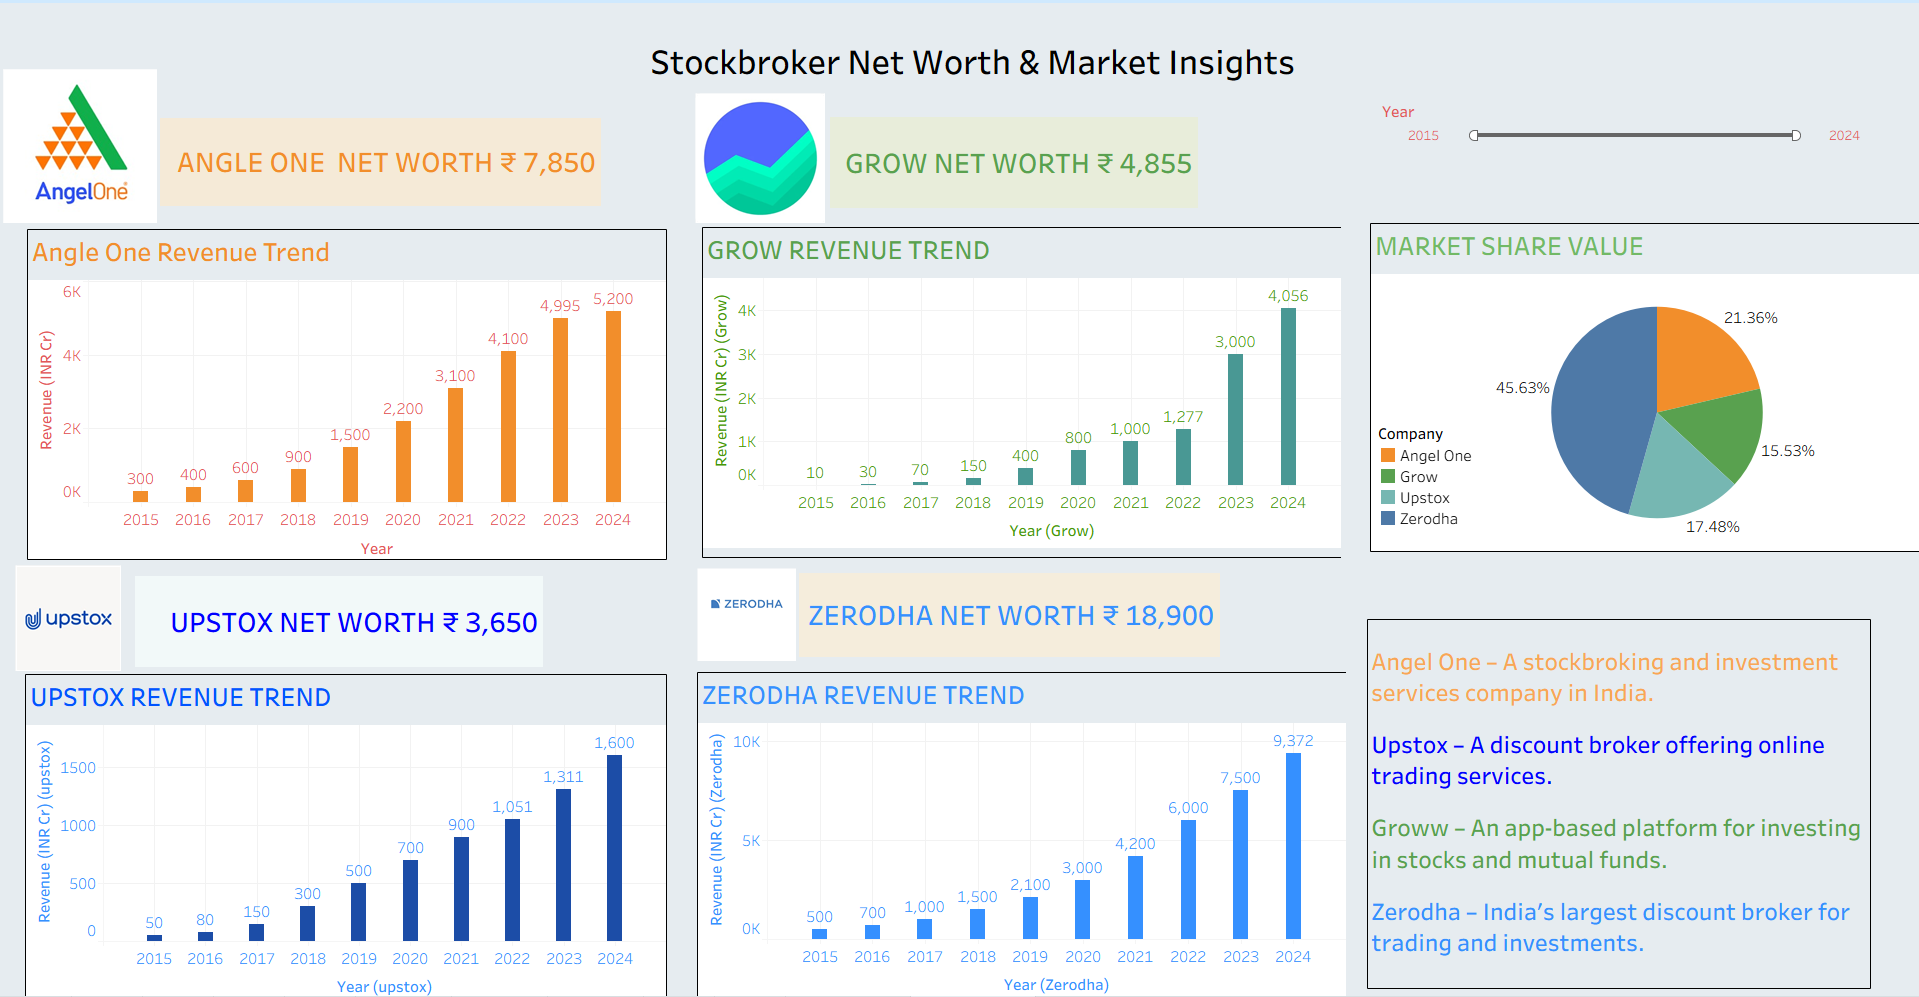

The dashboard page shown, as its layout file describes it:
{"tool":"tableau","page":{"name":"Dashboard 2","canvas":[1000,1000],"units":"permille","ordinal":1},"visuals":[{"type":"text","box":[336.9,4.7,402.5,104.5]},{"type":"image","param":"Image/IMG-20250917-WA0029.jpg","box":[1.6,63.9,80,162.6]},{"type":"image","param":"Image/IMG-20250917-WA0028.jpg","box":[342.7,90.6,106.5,131.2]},{"type":"filter","title":"Sheet 1","param":"[federated.19bdsbw06x80741b1lqpw1bcte57].[none:Year:qk]","box":[720,98.7,263.7,113.8]},{"type":"worksheet","title":"Sheet 5 (2)","mark":"Automatic","box":[432.2,115,221.4,91.8]},{"type":"worksheet","title":"Sheet 5","mark":"Automatic","box":[83.3,116.1,266.1,88.3]},{"type":"worksheet","title":"Sheet 2","mark":"Bar","rows":["Revenue (INR Cr) (Grow)"],"cols":["Year (Grow)"],"box":[365.5,225.3,333.2,333.3]},{"type":"worksheet","title":"Sheet 1","mark":"Bar","rows":["Revenue (INR Cr)"],"cols":["Year"],"box":[14.3,227.6,333.2,333.3]},{"type":"legend","title":"Sheet 6","param":"[federated.19bdsbw06x80741b1lqpw1bcte57].[none:Company:nk]","box":[717.6,422.8,83.9,123.1]},{"type":"image","param":"Image/4a8fc04a855b4e7a968e268b08543958.jpg","box":[326.5,569.1,138.8,94.1]},{"type":"worksheet","title":"Sheet 5 (4)","mark":"Automatic","box":[426.1,573.8,254.1,84.8]},{"type":"worksheet","title":"Sheet 5 (3)","mark":"Automatic","box":[70.6,577.2,275.2,91.8]},{"type":"text","box":[712.1,620.2,262.5,372.8]}]}

Visuals, with their boxes on the dashboard's canvas, which has no fixed pixel size, in thousandths of its width and height (x1, y1, x2, y2). These are canvas units, not pixel positions in the 1919x997 screenshot, which may show the page scaled, cropped or inside an application window:
text: pyautogui.locateOnScreen(337, 5, 739, 109)
image: pyautogui.locateOnScreen(2, 64, 82, 226)
image: pyautogui.locateOnScreen(343, 91, 449, 222)
"Sheet 1" filter: pyautogui.locateOnScreen(720, 99, 984, 212)
"Sheet 5 (2)" worksheet: pyautogui.locateOnScreen(432, 115, 654, 207)
"Sheet 5" worksheet: pyautogui.locateOnScreen(83, 116, 349, 204)
"Sheet 2" worksheet (Bar marks): pyautogui.locateOnScreen(366, 225, 699, 559)
"Sheet 1" worksheet (Bar marks): pyautogui.locateOnScreen(14, 228, 348, 561)
"Sheet 6" legend: pyautogui.locateOnScreen(718, 423, 802, 546)
image: pyautogui.locateOnScreen(326, 569, 465, 663)
"Sheet 5 (4)" worksheet: pyautogui.locateOnScreen(426, 574, 680, 659)
"Sheet 5 (3)" worksheet: pyautogui.locateOnScreen(71, 577, 346, 669)
text: pyautogui.locateOnScreen(712, 620, 975, 993)
